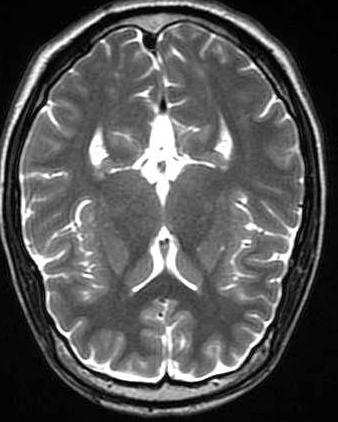Normal_Brain: (1, 1, 338, 422)
